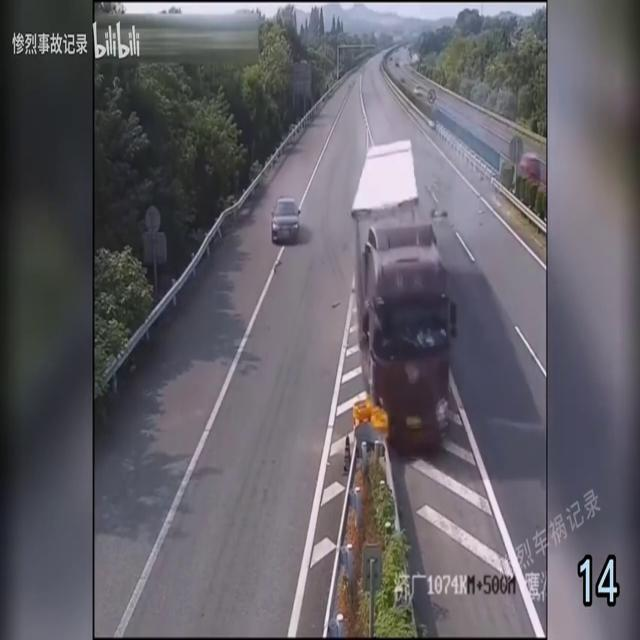normal: (257, 187, 316, 253)
single accident: (315, 102, 474, 473)
